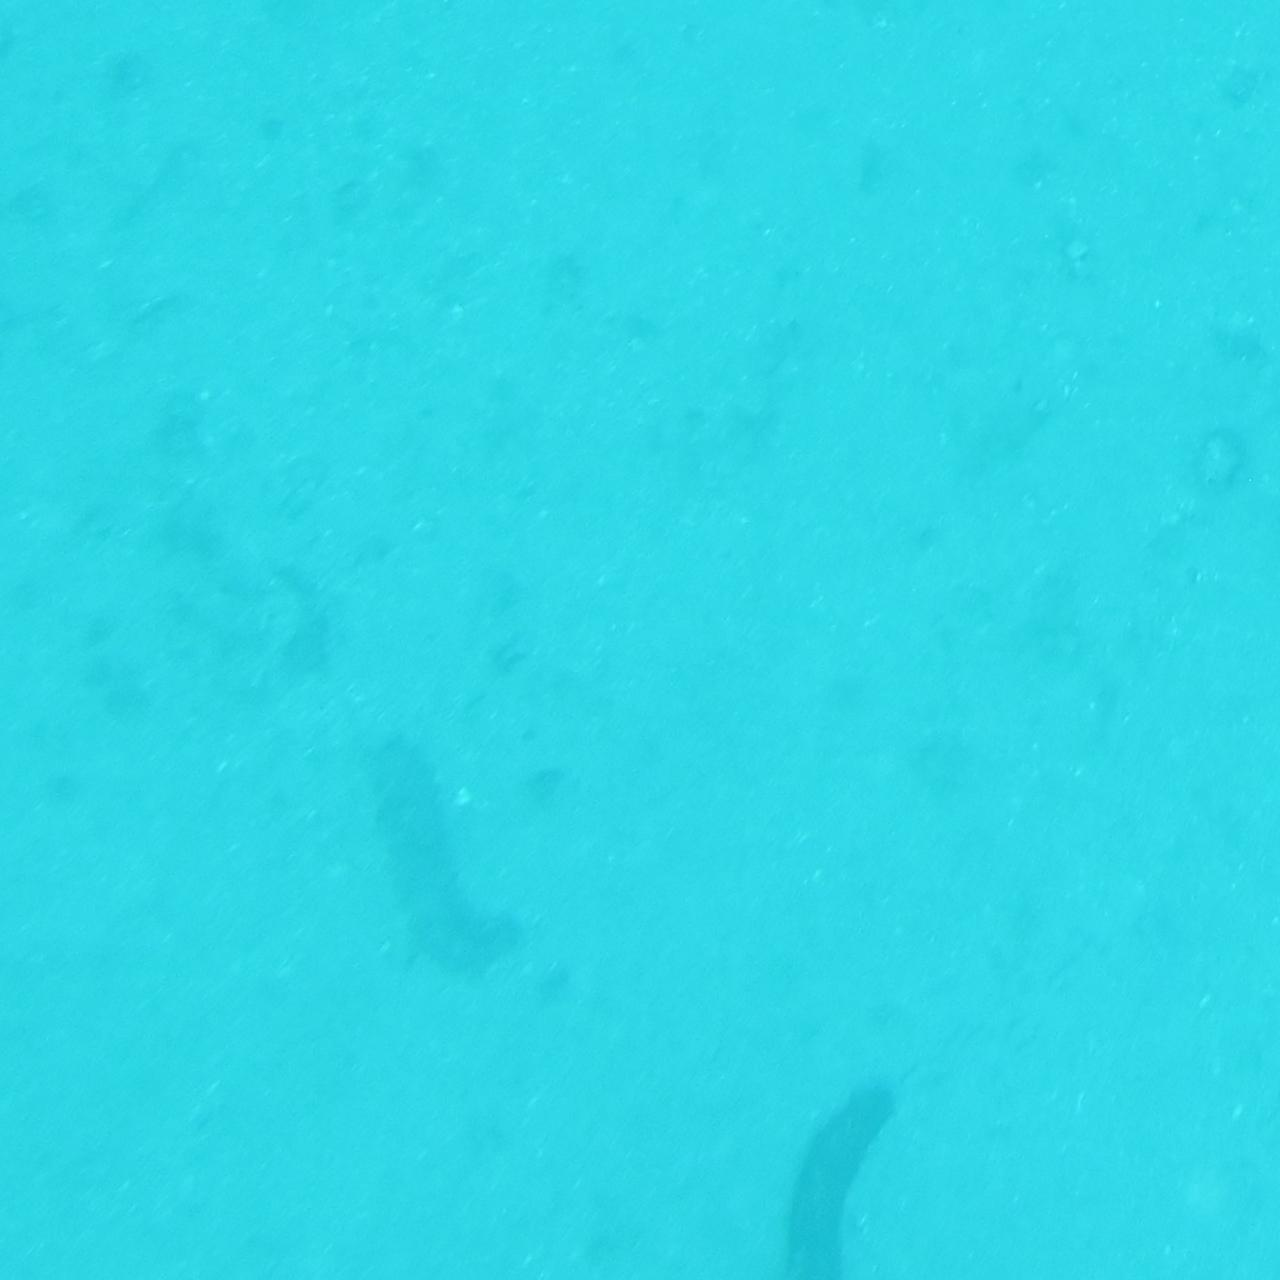Holothuria tubulosa: (345, 712, 529, 987), (764, 1073, 924, 1280)
